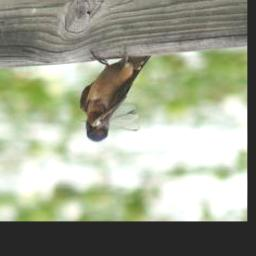Swallow: (80, 43, 152, 143)
